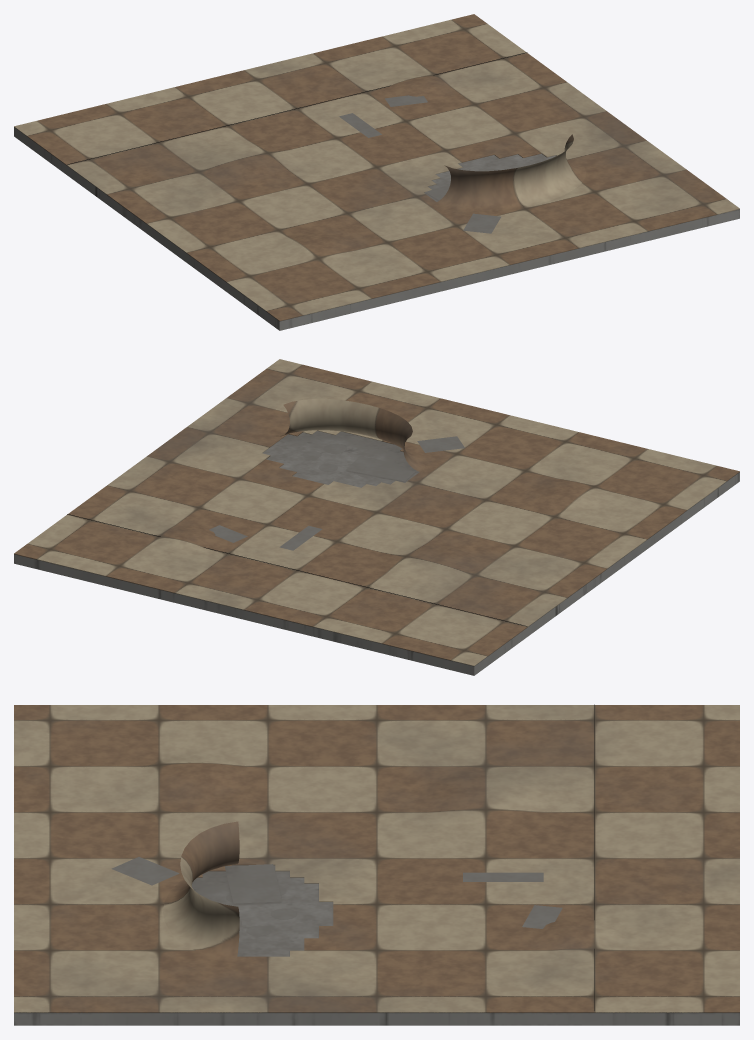
Rendered from SM_Floor_Linoleum_2m.fbx.
3 views of the same model, one above another, from view 1: azimuth 30°, elevation 25°; view 2: azimuth 150°, elevation 25°; view 3: azimuth 270°, elevation 25° (orthographic). The views are drawn at different scales.
Parts seen in each view (by area): view 1: SM_Floor_Linoleum_2m; view 2: SM_Floor_Linoleum_2m; view 3: SM_Floor_Linoleum_2m.
Part boxes in pixels (left/top/right/bottom): SM_Floor_Linoleum_2m: left=14, top=14, right=739, bottom=330; SM_Floor_Linoleum_2m: left=14, top=359, right=739, bottom=675; SM_Floor_Linoleum_2m: left=14, top=704, right=739, bottom=1025.
Bounding box in the file's own units: 2 × 0.1881 × 2.
1 material, 1 textured.
